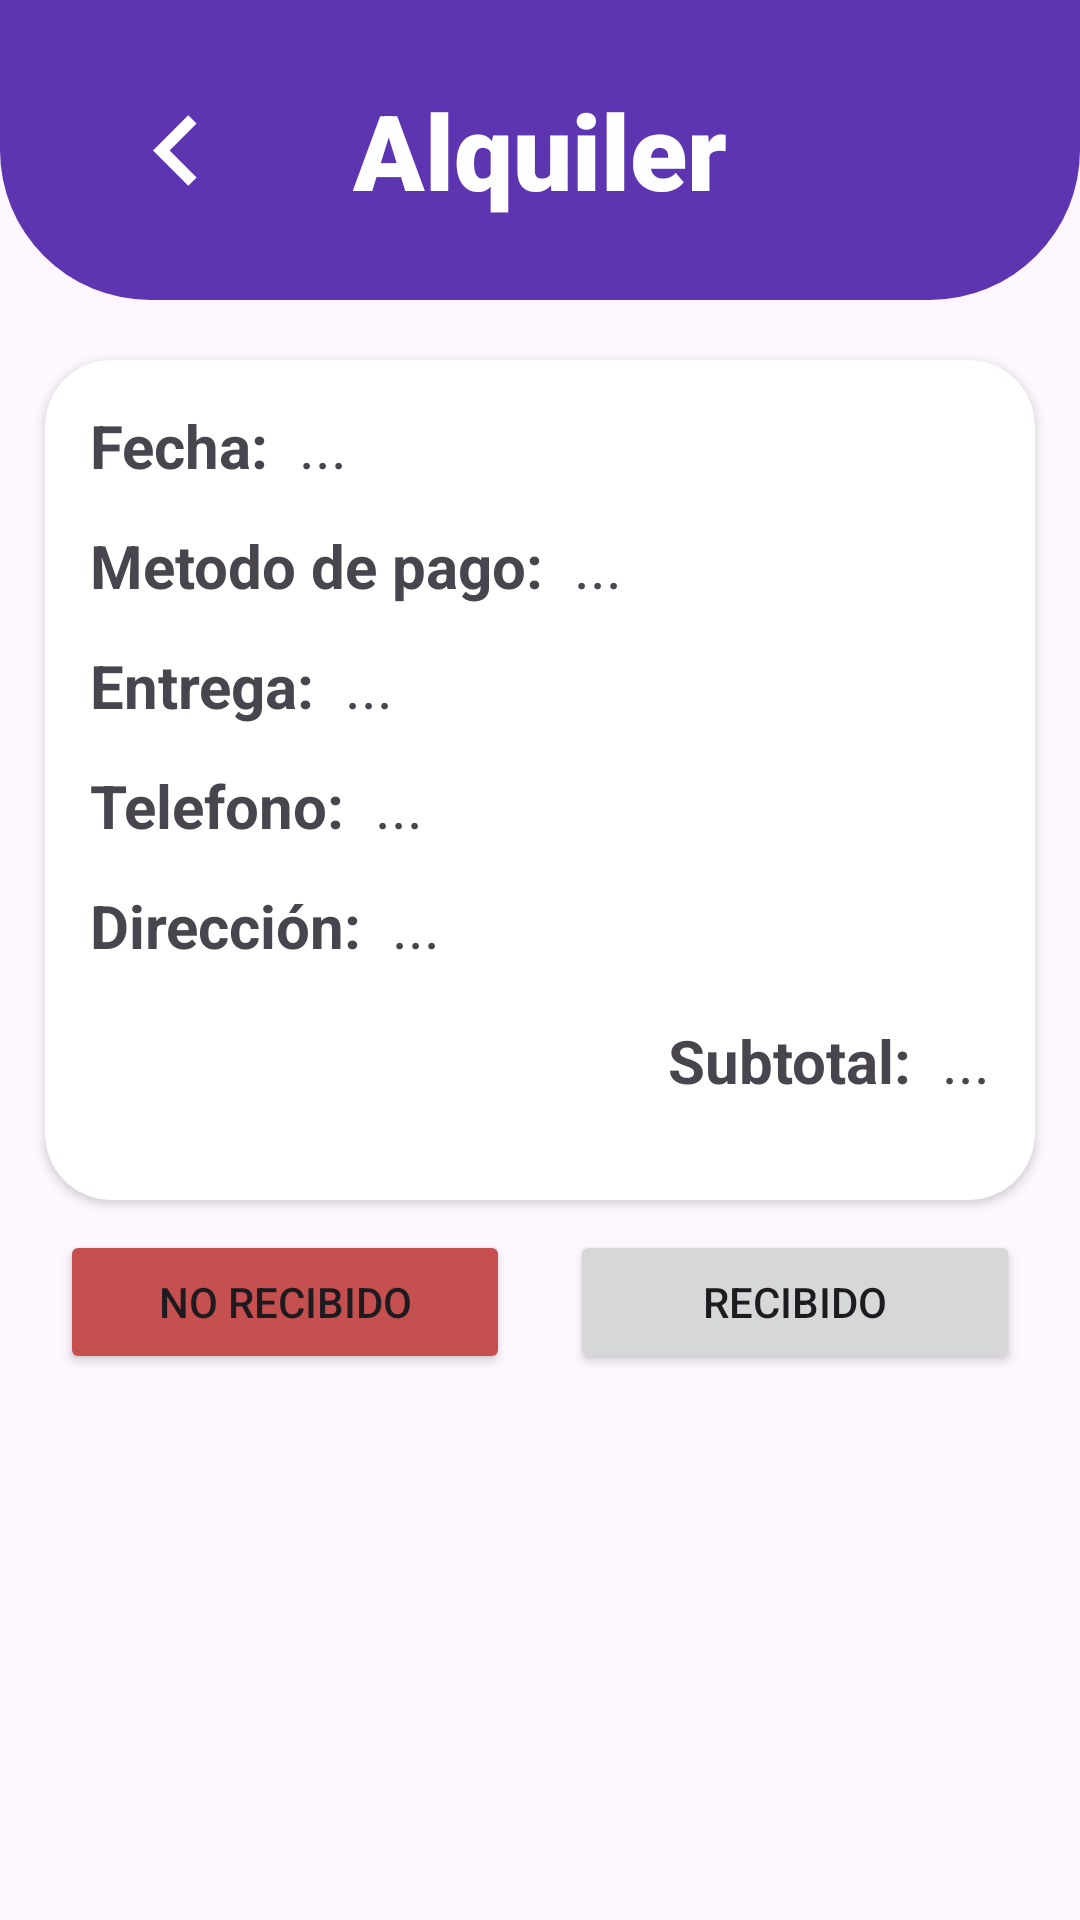

Icon bounding boxes for this 1080×1920 phone screenshot, format (x1=x1, y1=y1, x2=x2, y2=y2):
back: (x1=153, y1=115, x2=197, y2=186)
